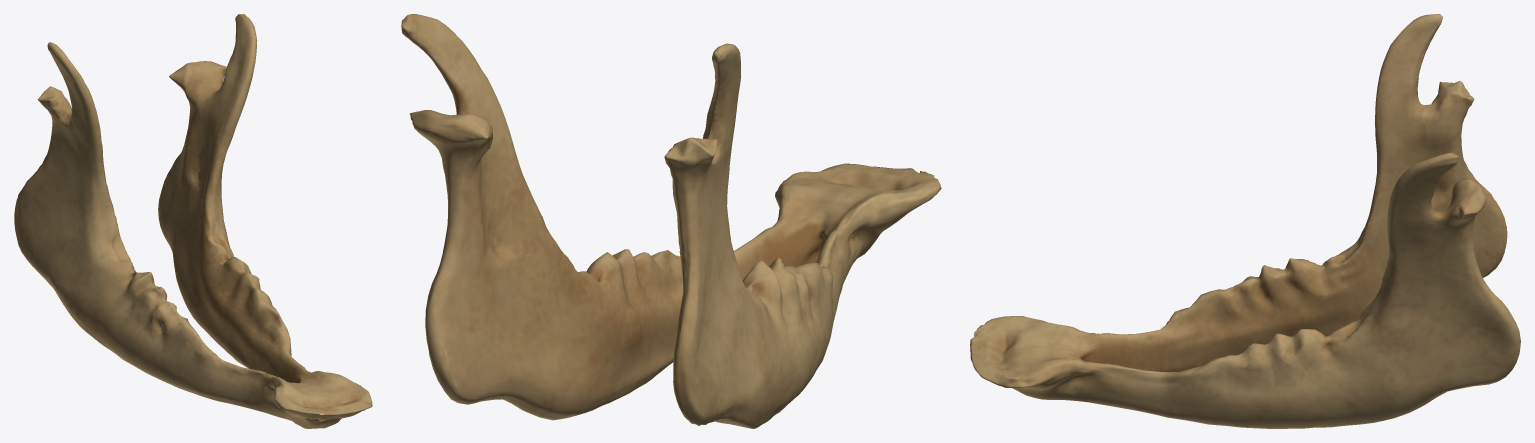
File: Mandible.glb
3 views of the same model, side by side, from view 1: azimuth 30°, elevation 25°; view 2: azimuth 150°, elevation 25°; view 3: azimuth 270°, elevation 25° (orthographic). The views are drawn at different scales.
Visible parts, largest first — view 1: ZBrush_defualt_group.025; view 2: ZBrush_defualt_group.025; view 3: ZBrush_defualt_group.025.
Boxes of the visible parts, <box> form: ZBrush_defualt_group.025: <box>14,14,372,428</box>; ZBrush_defualt_group.025: <box>401,14,941,428</box>; ZBrush_defualt_group.025: <box>970,14,1520,428</box>.
Bounding box in the file's own units: 110 × 149 × 215.
1 material, 1 textured.
